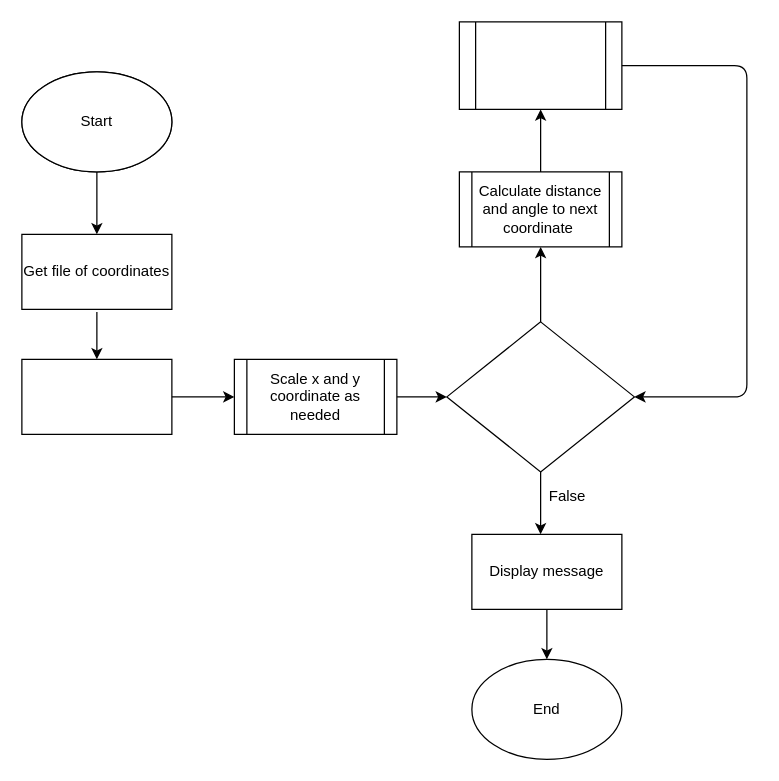
The diagram is 779 pixels wide and 781 high, and some of its shapes have lost their labels. Each missing label, with the centre of its shape:
"Coordinates printed < 20" goes at pixel 540 396.
"Drive to next coordinate using motor encoder for each motor" goes at pixel 540 65.
"Wait for button press and release" goes at pixel 96 396.
